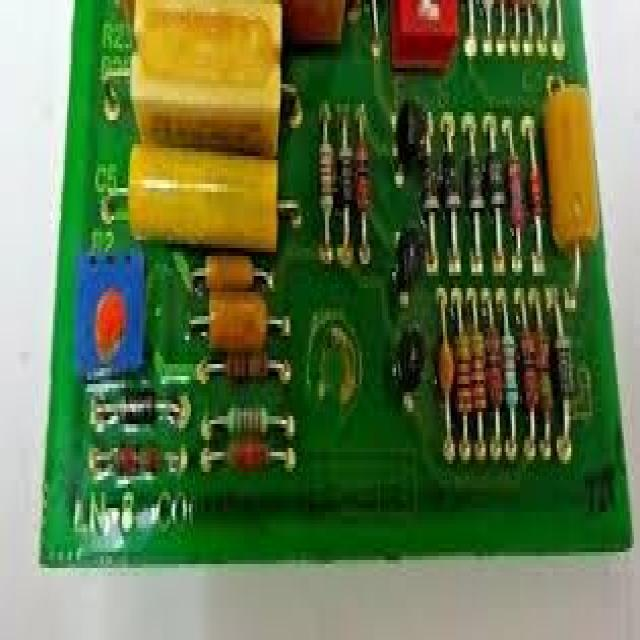pcb: (36, 0, 632, 568), (73, 240, 146, 380)
